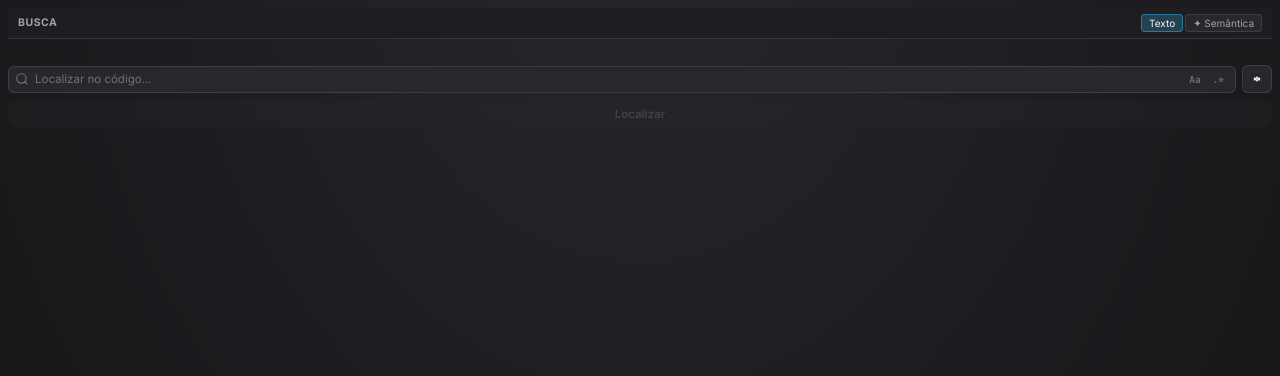
SearchPanel — busca semântica (Onda 1.4) › oferece indexar quando não há trechos e o projeto não está indexado
This screenshot has width=1280, height=376.
Click the button "✦ Semântica" at (1224, 23), box x1=1185 y1=14 x2=1262 y2=32
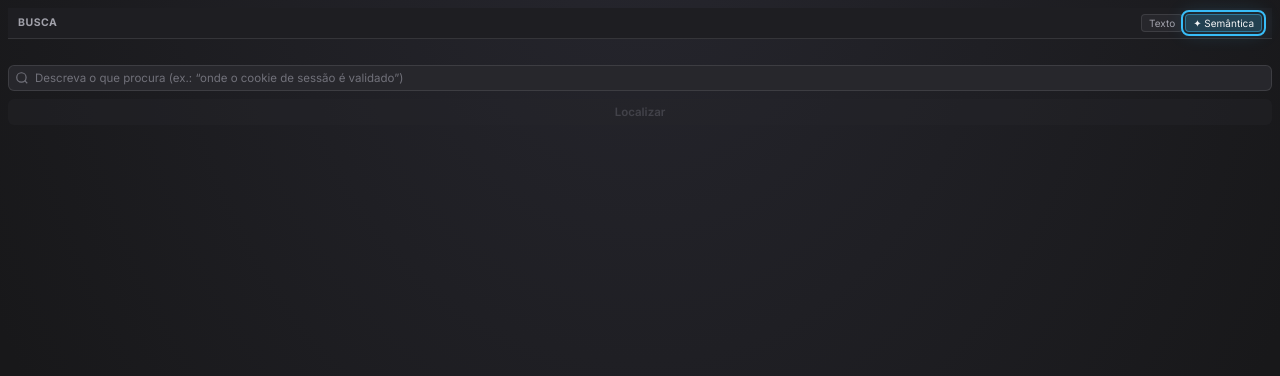
Type "qualquer" into the field with placeholder "Descreva o que procura" at (649, 78), box x1=33 y1=70 x2=1265 y2=86
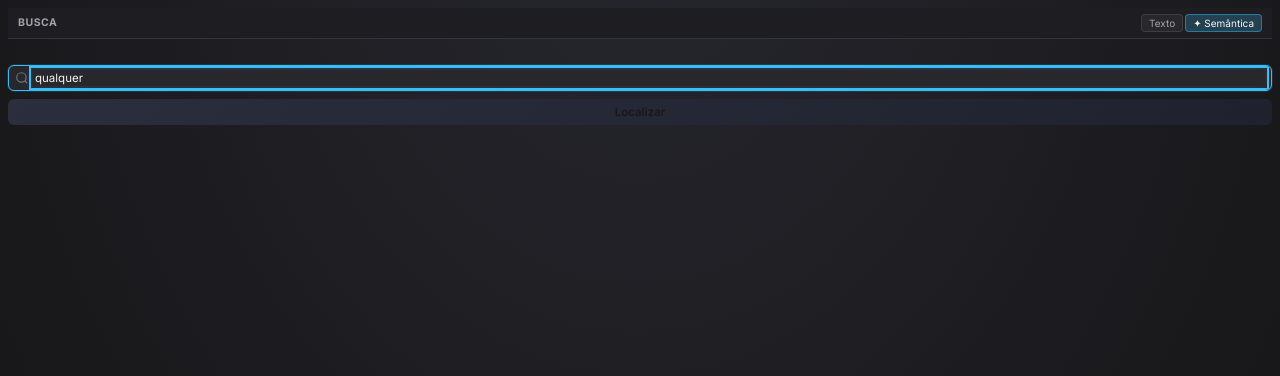
Click the button "Localizar" at (640, 112), box x1=8 y1=99 x2=1272 y2=125
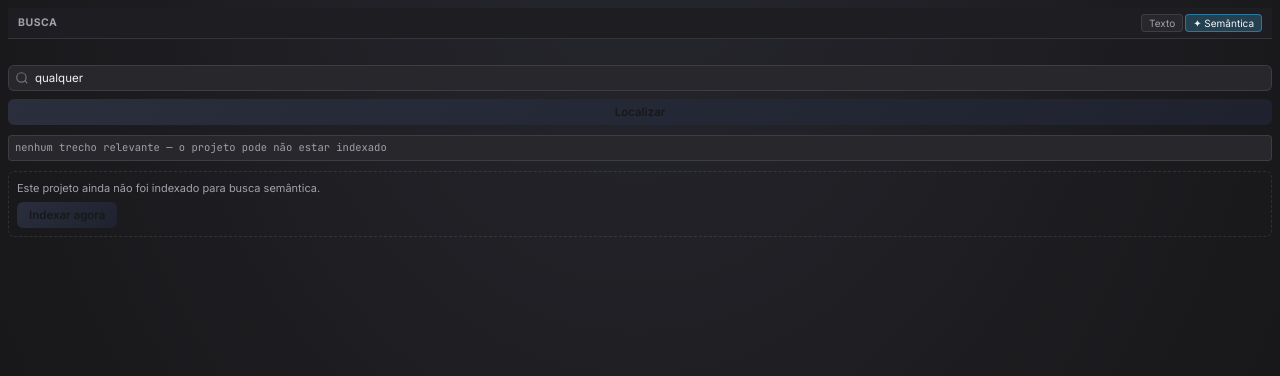
Click the button "Indexar agora" at (67, 215), box x1=17 y1=202 x2=117 y2=228
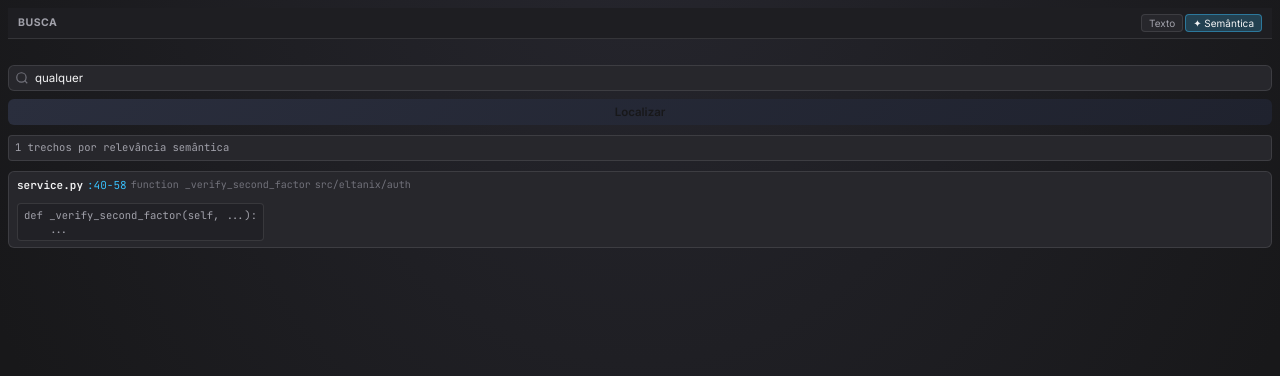
Now the text "service.py" is shown, box x1=17 y1=178 x2=83 y2=192
